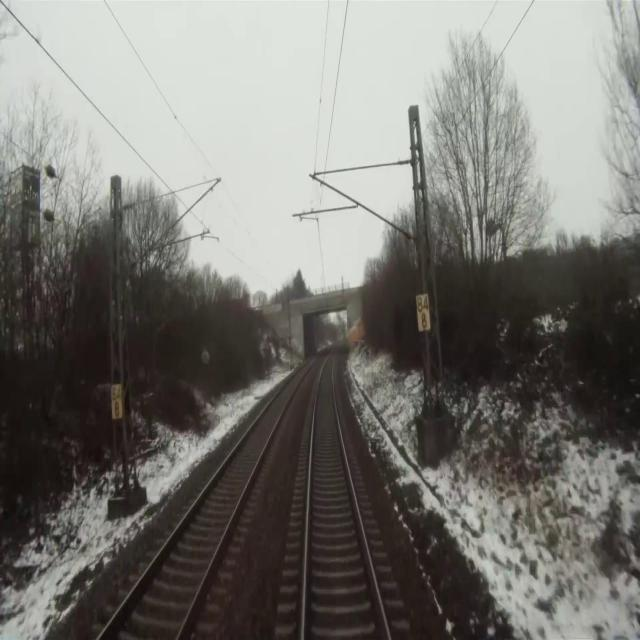rail-track: (101, 364, 309, 639), (305, 353, 386, 639)
